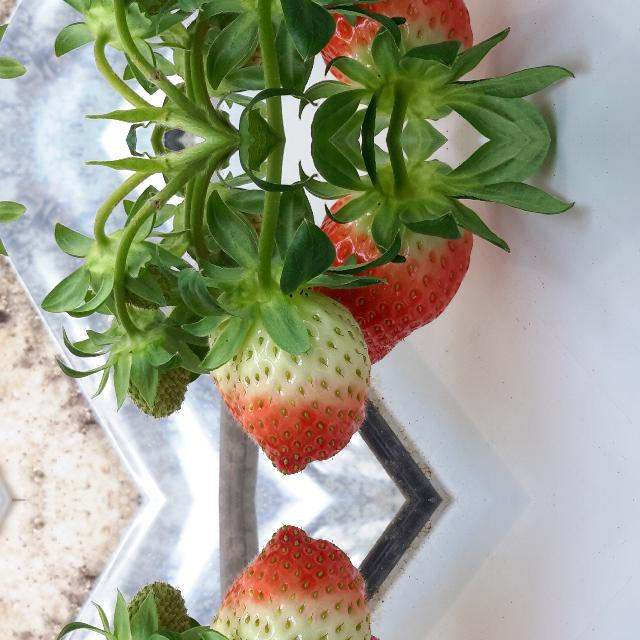Health_100: (312, 174, 476, 366), (312, 0, 476, 105)
Health_25: (120, 356, 192, 420), (120, 579, 192, 640)
Health_50: (209, 290, 371, 474), (209, 525, 371, 640)
